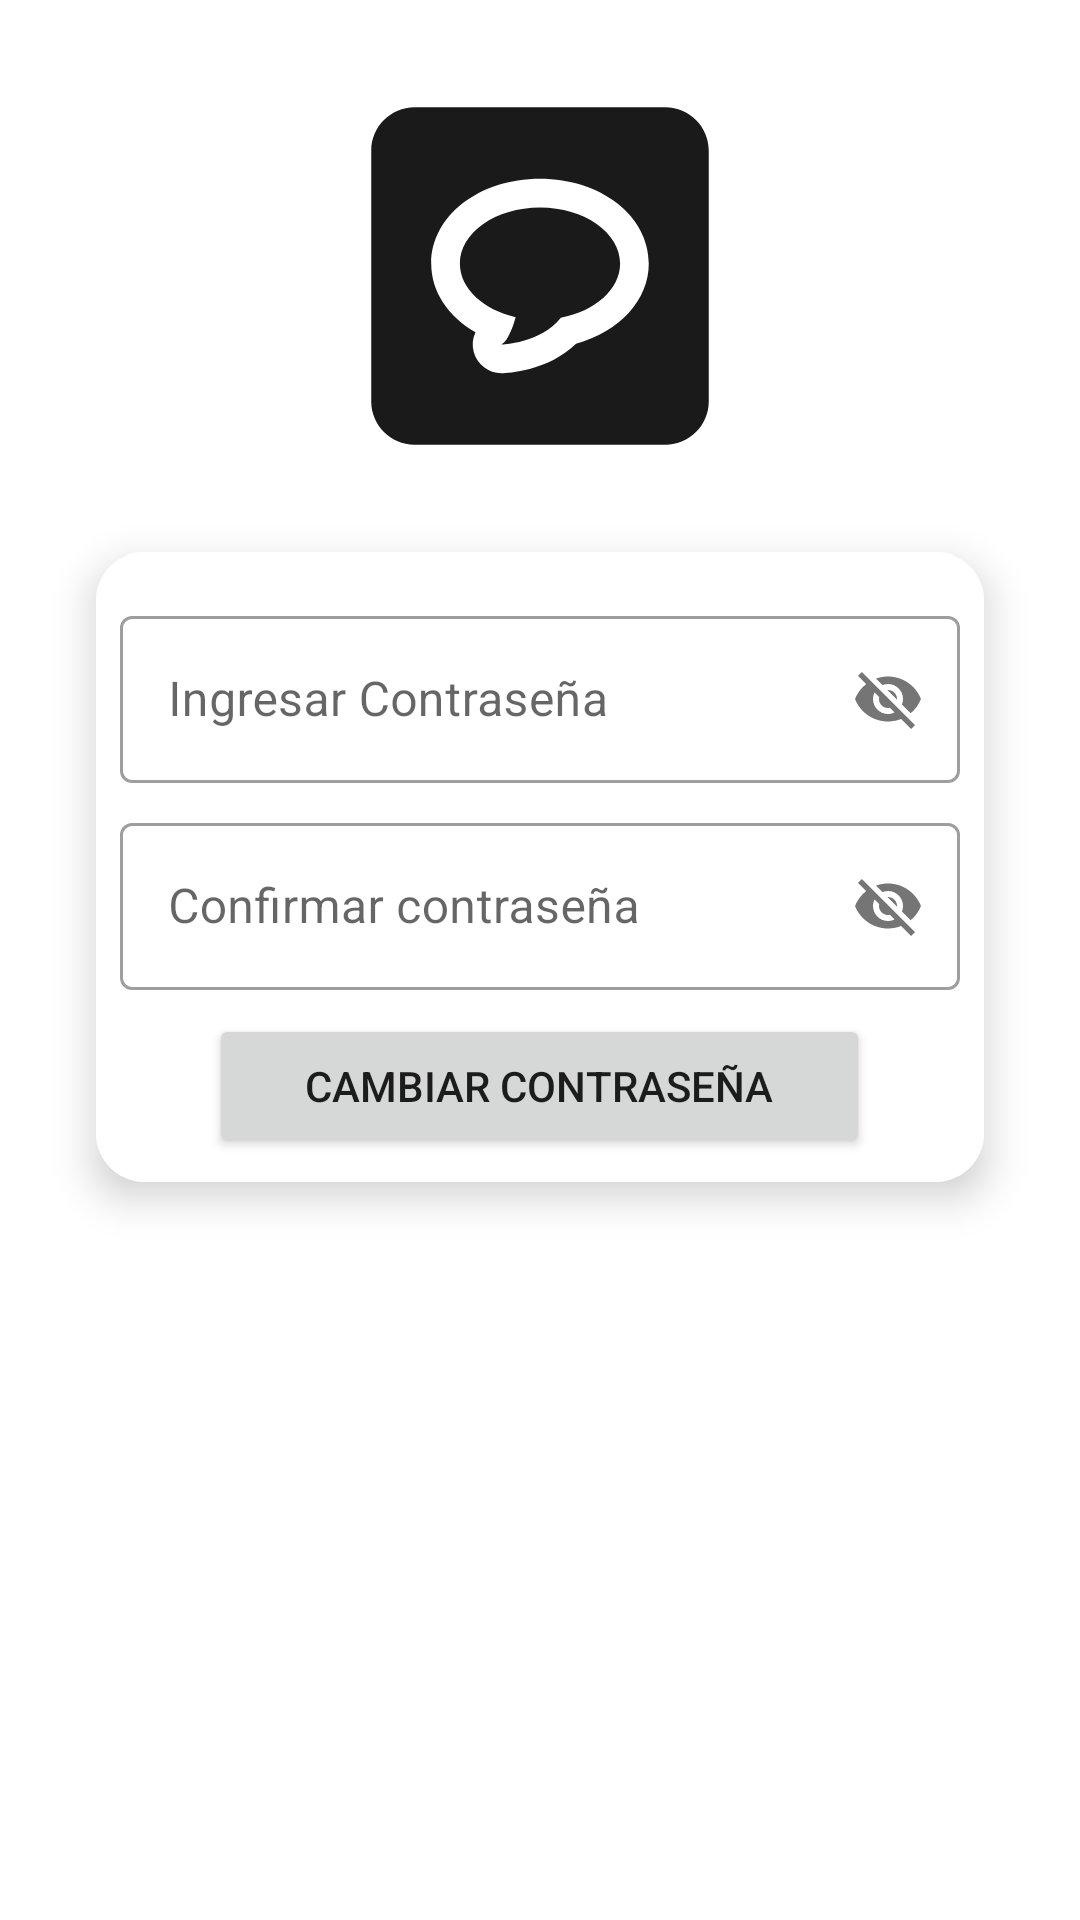

Icon bounding boxes for this 1080×1920 phone screenshot, format rect(x1, y1, x2, y2):
chatapp: rect(371, 107, 709, 445)
